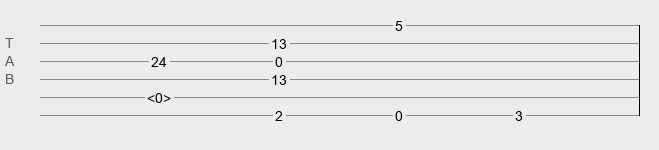0: (275, 54, 283, 64), (395, 108, 403, 118)
13: (271, 36, 287, 46), (271, 72, 287, 82)
2: (275, 108, 283, 118)
24: (151, 54, 167, 64)
3: (515, 108, 523, 118)
5: (395, 18, 403, 28)
harmonic: (147, 90, 171, 100)
